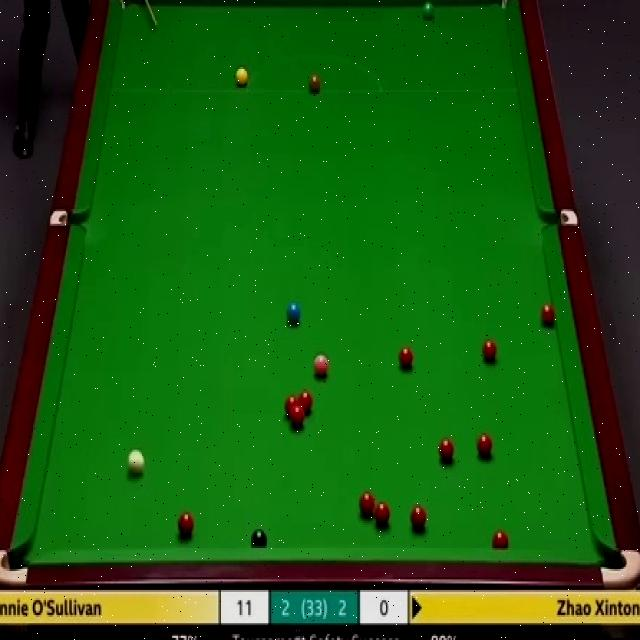black-ball: (250, 526, 269, 549)
blue-ball: (285, 302, 301, 327)
brown-ball: (307, 72, 321, 95)
green-ball: (420, 1, 436, 21)
pink-ball: (313, 350, 330, 378)
red-ball: (374, 499, 392, 532), (397, 344, 415, 374), (358, 490, 376, 518), (409, 505, 426, 533), (475, 432, 492, 458), (482, 337, 498, 364), (438, 438, 454, 464), (178, 511, 194, 537), (540, 302, 556, 327), (493, 528, 509, 550), (299, 391, 313, 416), (291, 408, 304, 429), (285, 395, 298, 416)
white-ball: (126, 447, 144, 476)
yellow-ball: (233, 66, 248, 87)
